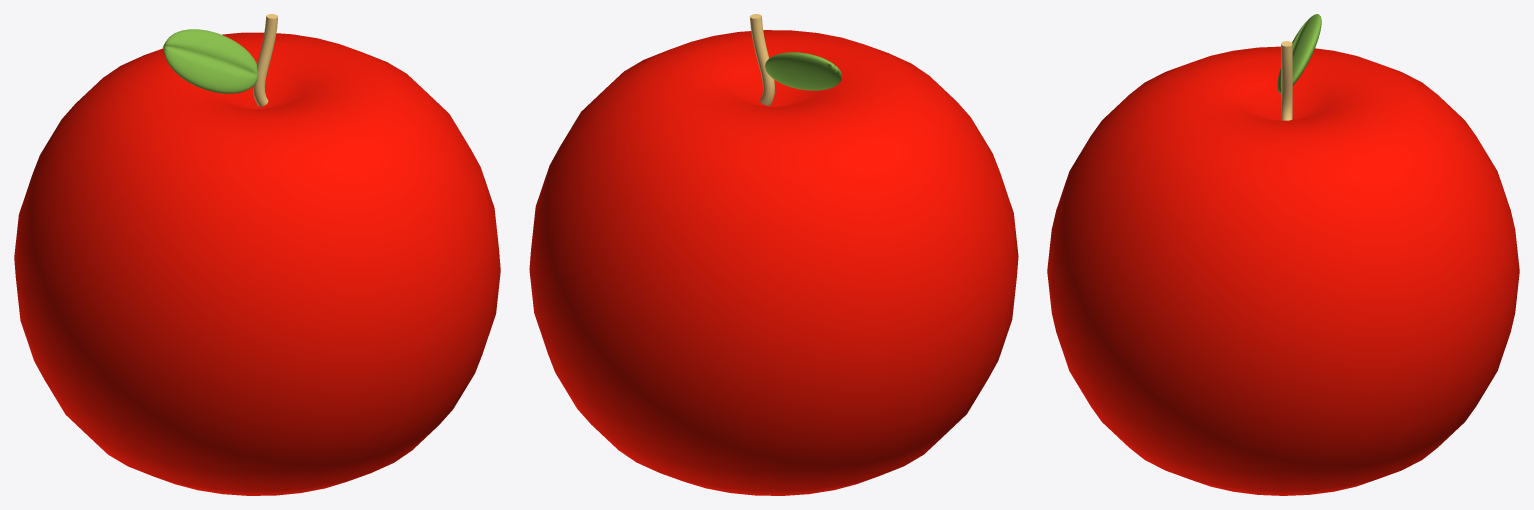
The model's file is asset.glb.
3 renders of one model, left to right at view 1: azimuth 30°, elevation 25°; view 2: azimuth 150°, elevation 25°; view 3: azimuth 270°, elevation 25°, orthographic. The views are drawn at different scales.
Visible parts, largest first — view 1: Sphere.003, Sphere.002, BezierCurve.001; view 2: Sphere.003, Sphere.002, BezierCurve.001; view 3: Sphere.003, Sphere.002, BezierCurve.001.
Part boxes in pixels (x1,y1,x2,y2): Sphere.003: [14, 32, 500, 495]; Sphere.002: [162, 29, 258, 93]; BezierCurve.001: [253, 14, 277, 106]; Sphere.003: [529, 30, 1018, 495]; Sphere.002: [765, 52, 842, 90]; BezierCurve.001: [750, 14, 774, 106]; Sphere.003: [1047, 46, 1519, 495]; Sphere.002: [1277, 14, 1321, 93]; BezierCurve.001: [1281, 41, 1292, 120].
Bounding box in the file's own units: 0.4437 × 0.4267 × 0.4437.
